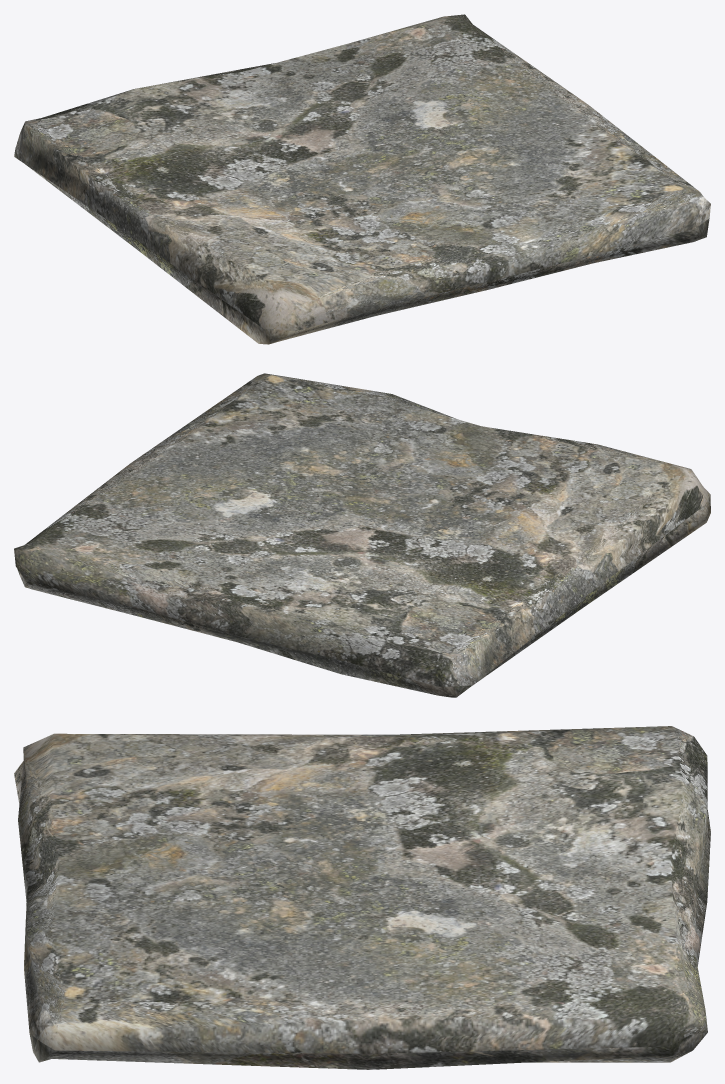
The model's file is Paving Stone 3.fbx.
3 views of the same model, one above another, from view 1: azimuth 30°, elevation 25°; view 2: azimuth 150°, elevation 25°; view 3: azimuth 270°, elevation 25° (orthographic). The views are drawn at different scales.
Parts seen in each view (by area): view 1: Stone 3; view 2: Stone 3; view 3: Stone 3.
Boxes of the visible parts, left/top/right/bottom form: Stone 3: left=14, top=14, right=710, bottom=344; Stone 3: left=14, top=373, right=710, bottom=697; Stone 3: left=14, top=726, right=710, bottom=1069.
Size of the model in its own units: 40.39 by 4.41 by 40.08.
